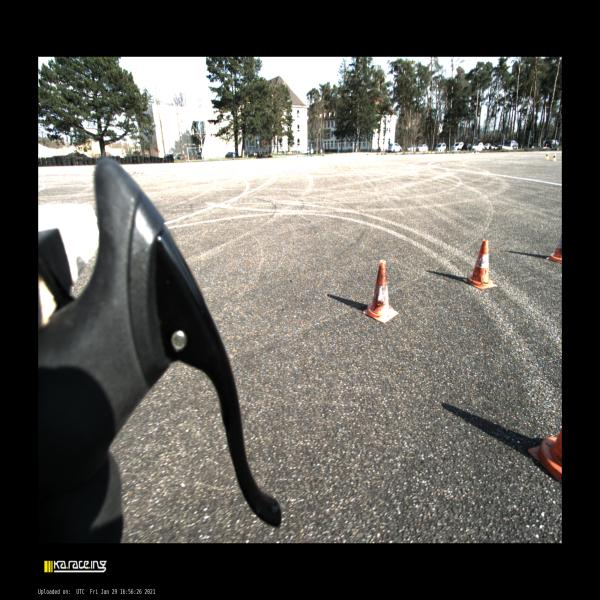orange_cone: (362, 260, 398, 323), (528, 429, 562, 483), (463, 240, 497, 290), (546, 234, 562, 263)
yellow_cone: (552, 153, 556, 161), (545, 152, 549, 159)
